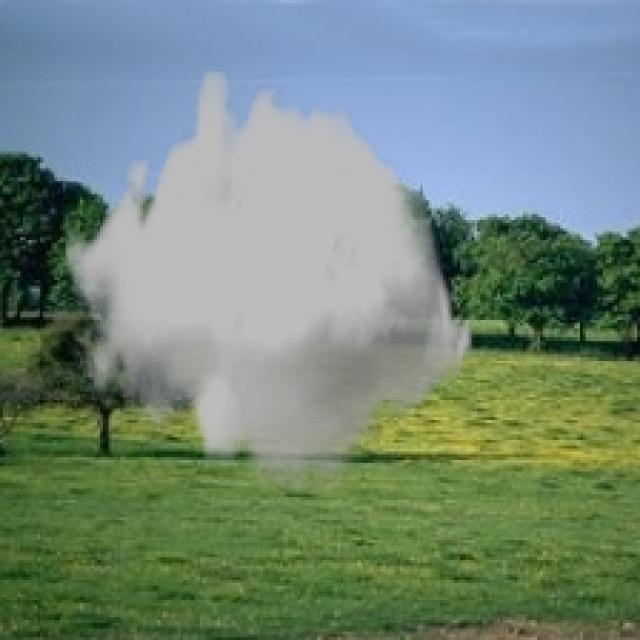smoke: (63, 71, 474, 488)
